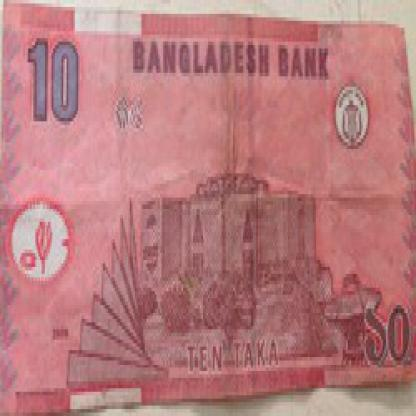Ten Taka: (3, 14, 90, 139), (346, 284, 414, 374)
